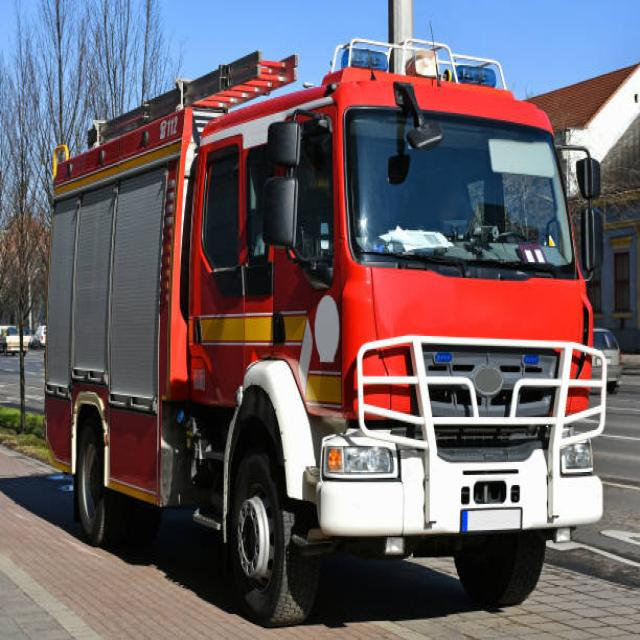emergency: (45, 38, 605, 625)
